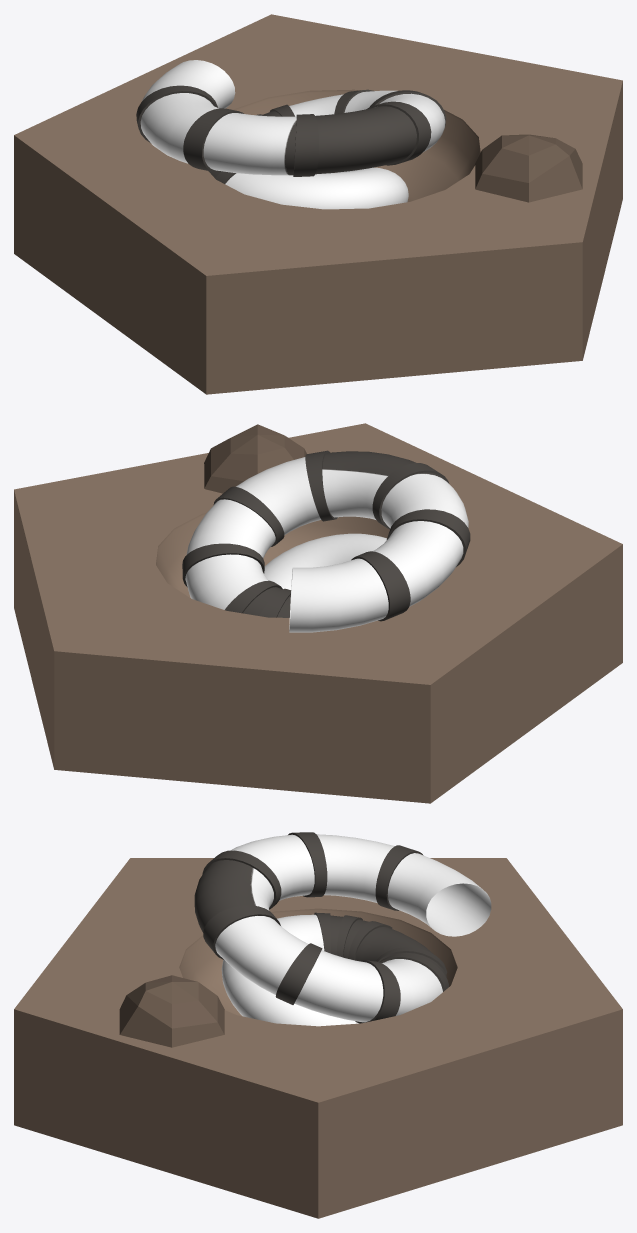
File: house_lion_2.fbx
3 views of the same model, one above another, from view 1: azimuth 30°, elevation 25°; view 2: azimuth 150°, elevation 25°; view 3: azimuth 270°, elevation 25° (orthographic). The views are drawn at different scales.
Visible parts, largest first — view 1: pCylinder2, Helix001, pSphere4; view 2: pCylinder2, Helix001, pSphere4; view 3: pCylinder2, Helix001, pSphere4.
Part boxes in pixels (x1,y1,x2,y2): pCylinder2: [14, 14, 622, 394]; Helix001: [136, 60, 446, 209]; pSphere4: [475, 134, 582, 202]; pCylinder2: [14, 423, 622, 803]; Helix001: [182, 450, 470, 632]; pSphere4: [204, 424, 306, 493]; pCylinder2: [14, 858, 622, 1218]; Helix001: [194, 832, 491, 1026]; pSphere4: [119, 975, 224, 1047].
Bounding box in the file's own units: 107 × 39.39 × 113.
